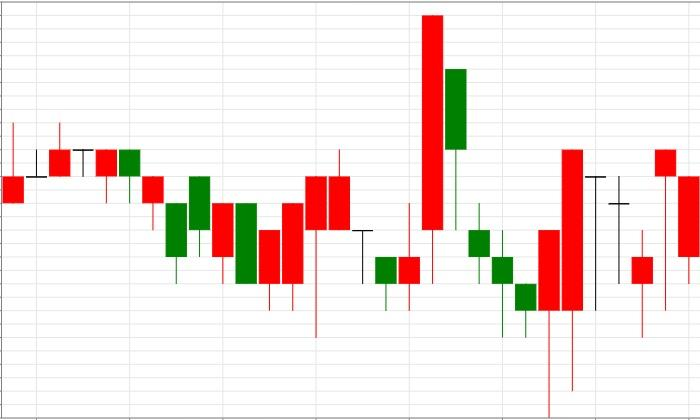bullish_engulfing_rise: (446, 69, 560, 418)
